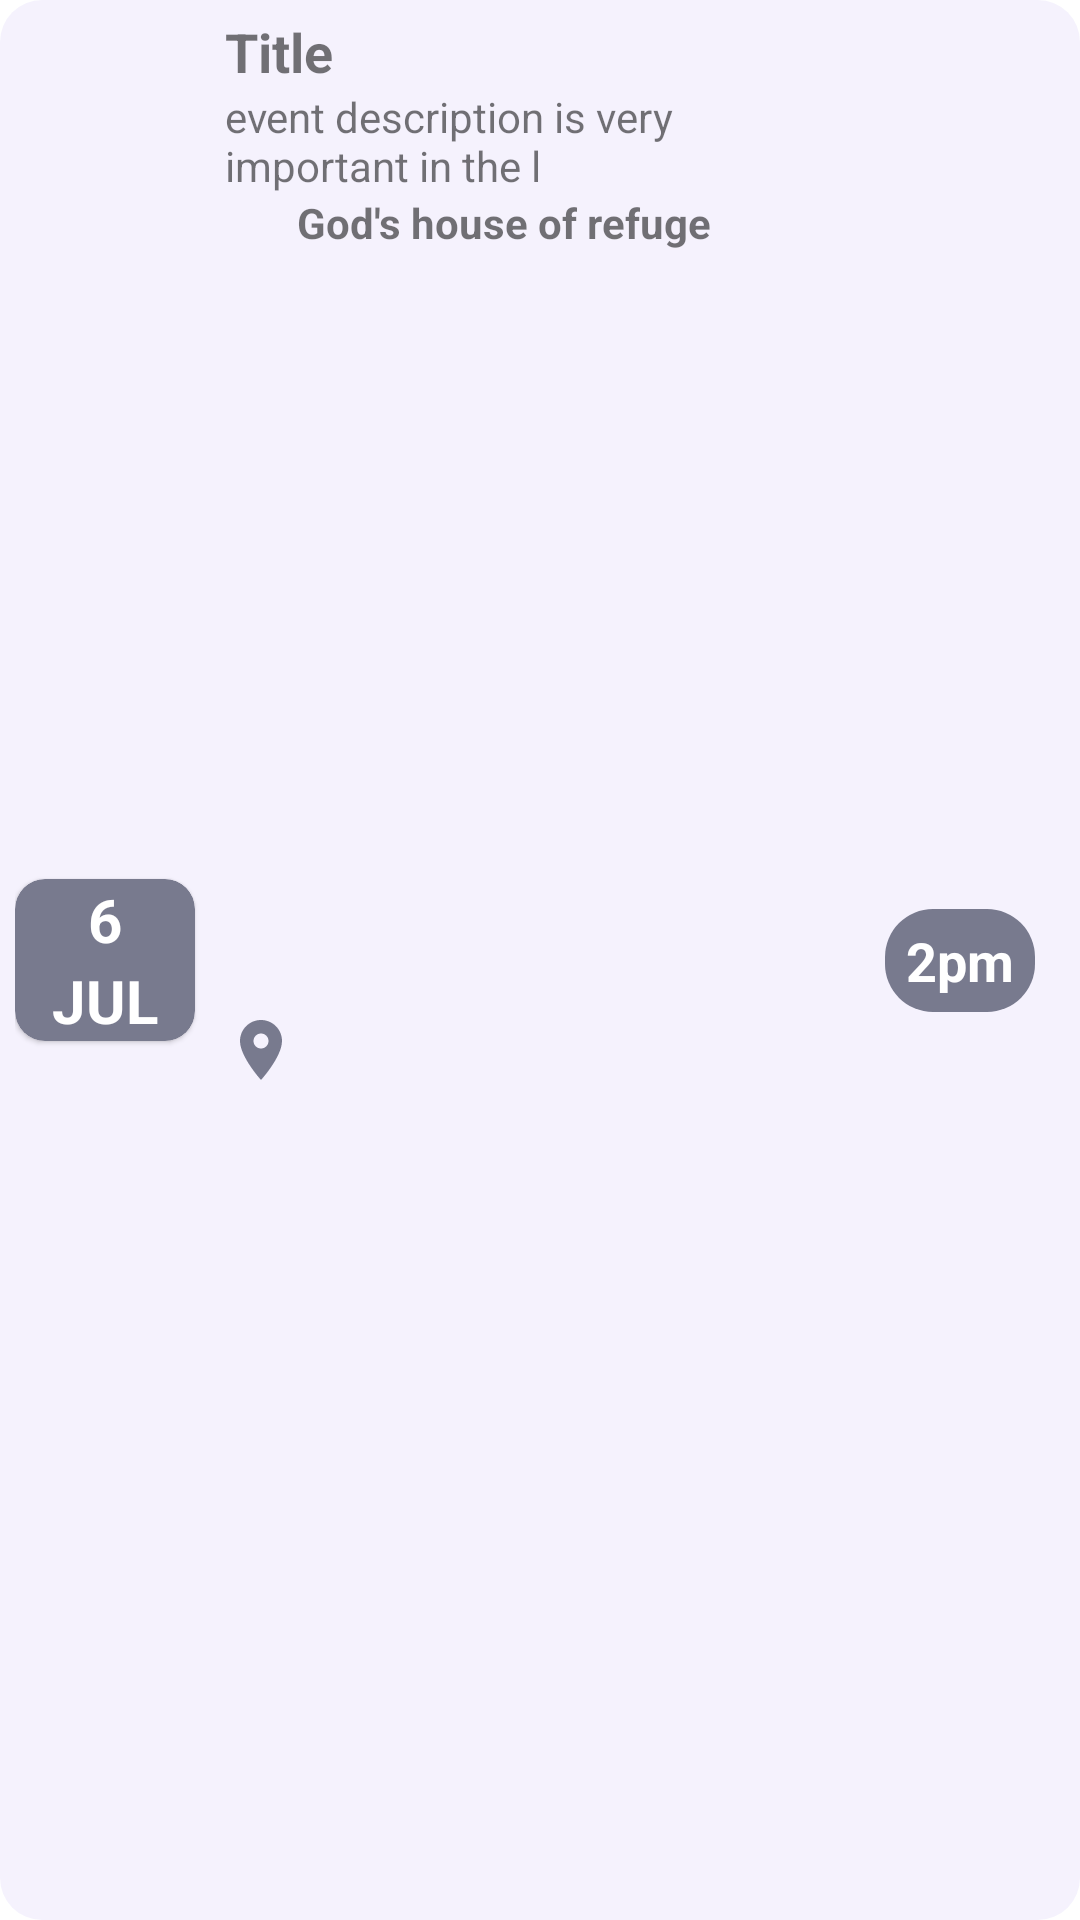

Where icons sit on this 1080px x 1920px app screen, as BBox(x1, y1, x2, y2):
location icon: BBox(240, 1020, 282, 1080)
